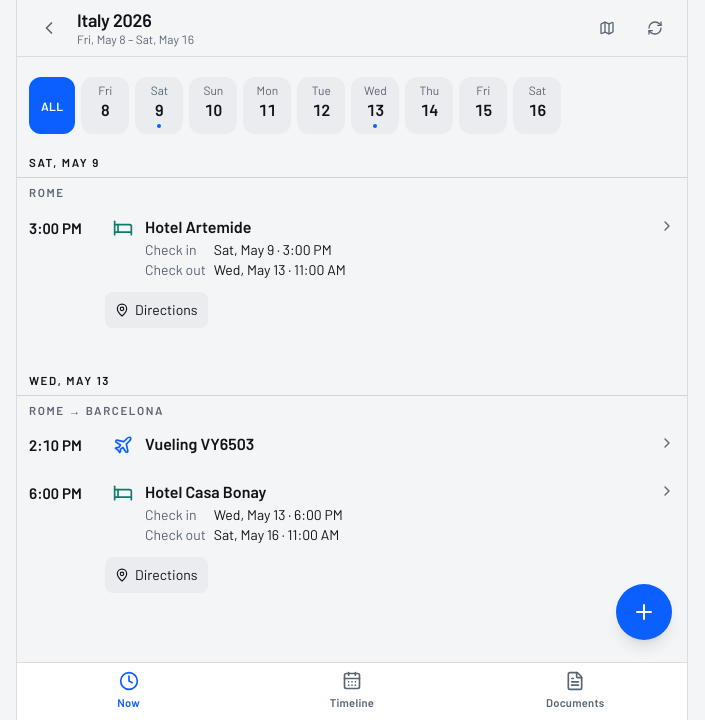
Scenario: the timeline day strip › tapping the chosen day again clears the filter
This screenshot has width=705, height=720.
Click the button with aria-label "Show Wed, May 13". click: (375, 106)
box: top-left (351, 77), bottom-right (399, 134)
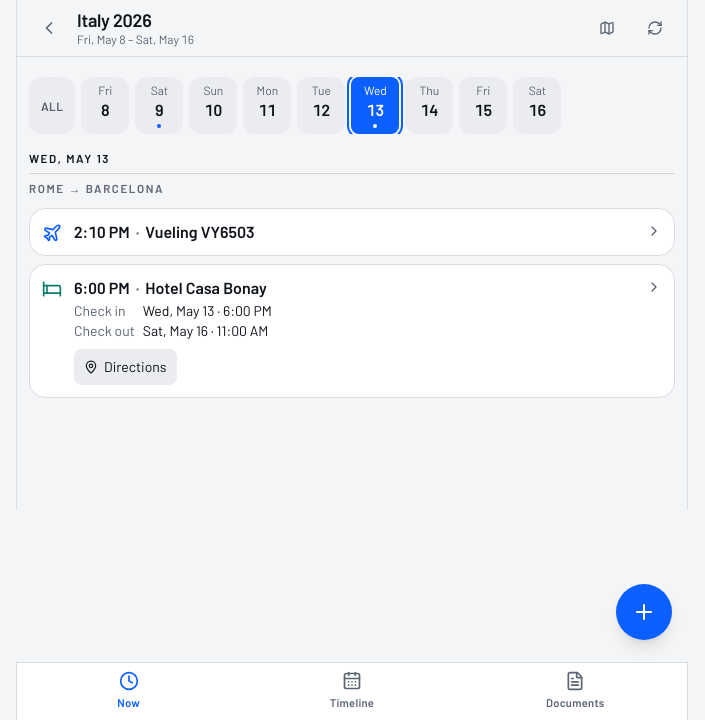
Click the button with aria-label "Show Wed, May 13". click: (375, 106)
box: top-left (351, 77), bottom-right (399, 134)
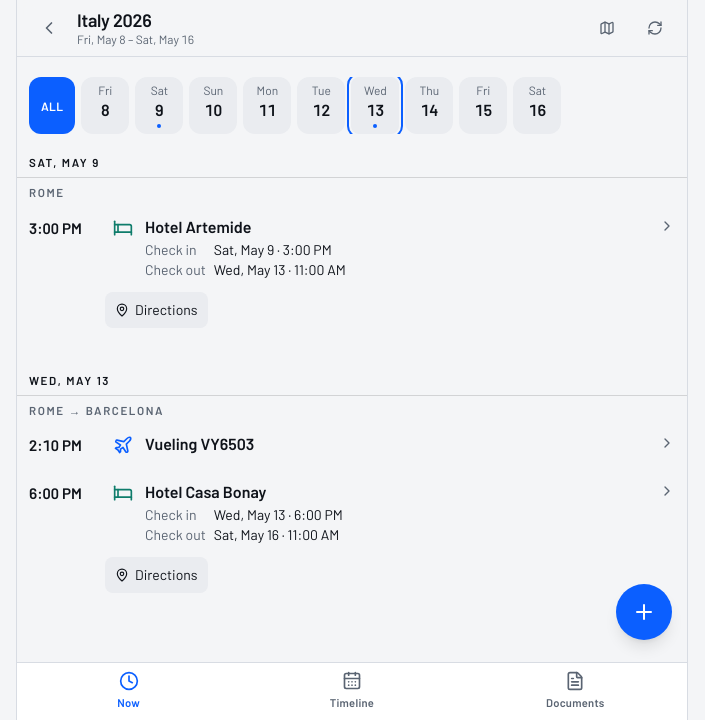
Result: the text "Hotel Artemide" is shown at top-left (145, 216), bottom-right (251, 236)
